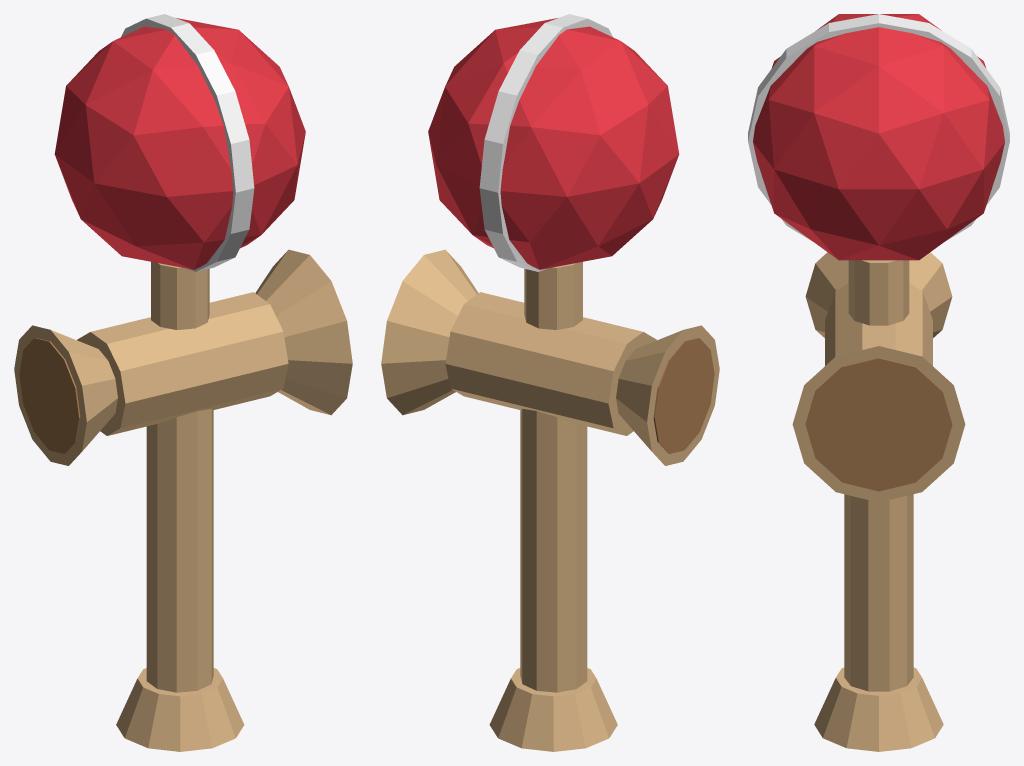
File: kendama.glb
The picture shows the model from 3 angles, left to right: view 1: azimuth 30°, elevation 25°; view 2: azimuth 150°, elevation 25°; view 3: azimuth 270°, elevation 25°; orthographic projection.
Visible parts, largest first — view 1: Icosphere, Cylinder, Cylinder.001, Cone.001, Cone, Cylinder.005, Cone.002, Cylinder.003, Cylinder.004; view 2: Icosphere, Cylinder, Cylinder.001, Cone.001, Cone, Cylinder.005, Cone.002, Cylinder.003, Cylinder.004; view 3: Icosphere, Cylinder.002, Cylinder, Cone, Cone.001, Cylinder.005, Cylinder.001, Cone.002, Cylinder.004.
Part boxes in pixels (bbox=[...]): Icosphere: bbox=[54, 18, 305, 269]; Cylinder: bbox=[146, 408, 213, 692]; Cylinder.001: bbox=[77, 292, 288, 435]; Cone.001: bbox=[255, 249, 352, 415]; Cone: bbox=[116, 668, 244, 751]; Cylinder.005: bbox=[121, 14, 254, 271]; Cone.002: bbox=[14, 325, 117, 465]; Cylinder.003: bbox=[19, 338, 80, 453]; Cylinder.004: bbox=[151, 262, 209, 329]; Icosphere: bbox=[428, 18, 679, 269]; Cylinder: bbox=[520, 408, 587, 692]; Cylinder.001: bbox=[445, 292, 656, 435]; Cone.001: bbox=[381, 249, 478, 415]; Cone: bbox=[489, 668, 617, 751]; Cylinder.005: bbox=[479, 14, 612, 271]; Cone.002: bbox=[616, 325, 719, 465]; Cylinder.003: bbox=[653, 338, 714, 453]; Cylinder.004: bbox=[524, 262, 582, 329]; Icosphere: bbox=[753, 14, 1004, 260]; Cylinder.002: bbox=[805, 358, 952, 491]; Cylinder: bbox=[844, 494, 913, 691]; Cone: bbox=[814, 667, 943, 751]; Cone.001: bbox=[792, 346, 965, 502]; Cylinder.005: bbox=[748, 14, 1009, 241]; Cylinder.001: bbox=[825, 283, 932, 365]; Cone.002: bbox=[805, 252, 952, 337]; Cylinder.004: bbox=[848, 260, 909, 325].
Bounding box in the file's own units: 7.07 × 18.03 × 6.06.
